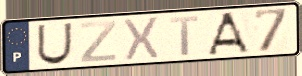7: (253, 6, 290, 54)
A: (205, 11, 252, 56)
T: (168, 14, 201, 57)
U: (36, 21, 75, 67)
X: (123, 15, 162, 62)
Z: (78, 19, 118, 64)
